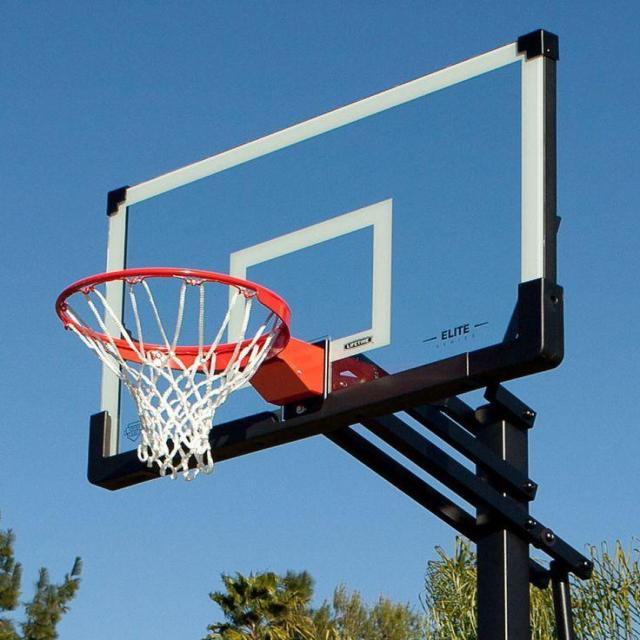hoop: (54, 252, 324, 460)
